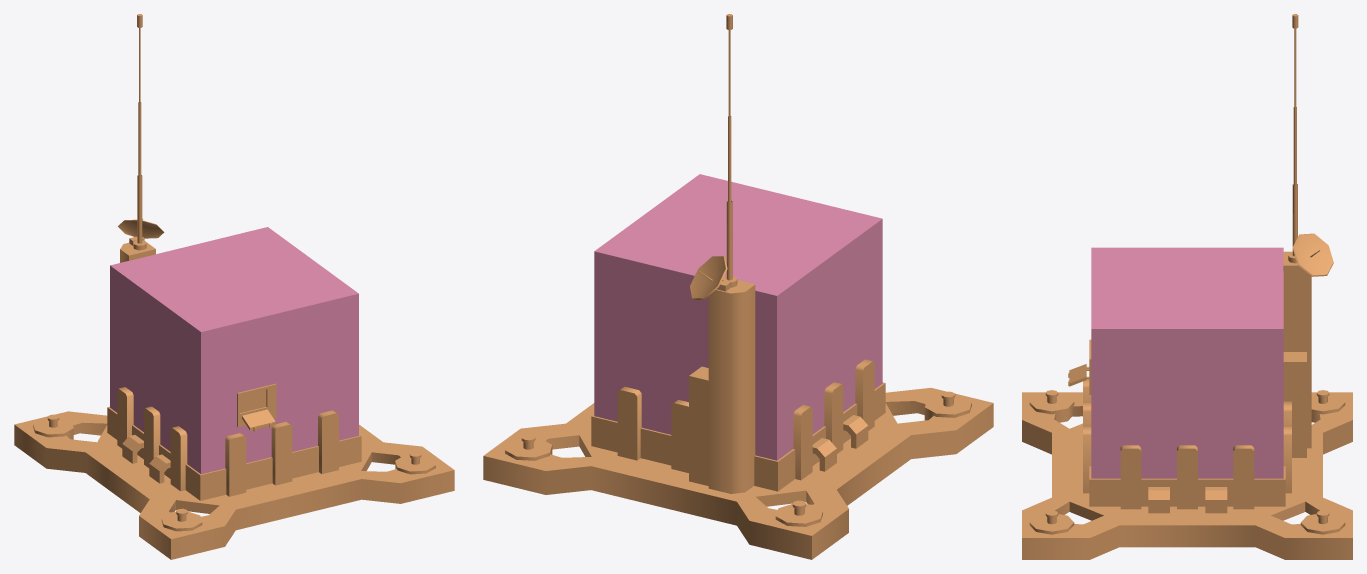
Rendered from HackerTurret.fbx.
The picture shows the model from 3 angles, left to right: view 1: azimuth 30°, elevation 25°; view 2: azimuth 150°, elevation 25°; view 3: azimuth 270°, elevation 25°; orthographic projection. The views are drawn at different scales.
Visible parts, largest first — view 1: HackerTurret, HackerTurretSatelite; view 2: HackerTurret, HackerTurretSatelite; view 3: HackerTurret, HackerTurretSatelite.
Boxes of the visible parts, bbox=[...] form: HackerTurret: bbox=[14, 227, 454, 559]; HackerTurretSatelite: bbox=[118, 218, 164, 238]; HackerTurret: bbox=[483, 174, 993, 559]; HackerTurretSatelite: bbox=[690, 256, 727, 299]; HackerTurret: bbox=[1022, 247, 1352, 559]; HackerTurretSatelite: bbox=[1292, 233, 1333, 276].
Size of the model in its own units: 4.43 by 6.36 by 4.24.
